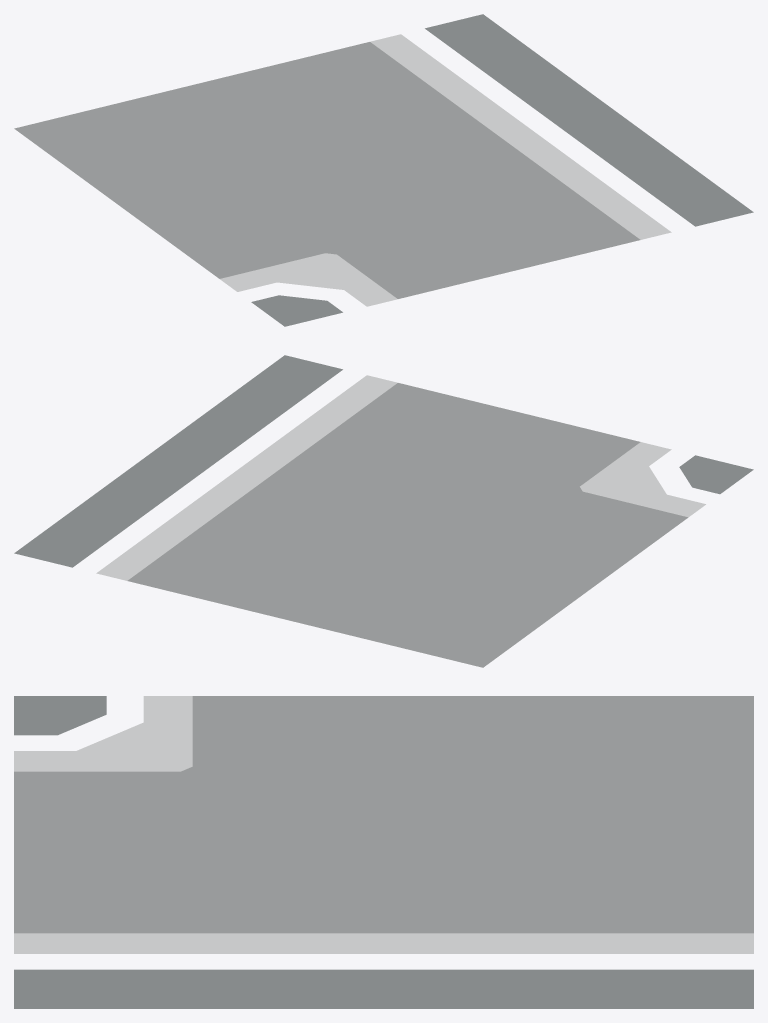
The model's file is Ceiling_type_A_008_002.glb.
The picture shows the model from 3 angles, top to bottom: view 1: azimuth 30°, elevation 25°; view 2: azimuth 150°, elevation 25°; view 3: azimuth 270°, elevation 25°; orthographic projection. The views are drawn at different scales.
Parts seen in each view (by area): view 1: Ceiling_type_A_008.002; view 2: Ceiling_type_A_008.002; view 3: Ceiling_type_A_008.002.
Boxes of the visible parts, x1,y1,x2,y2 form: Ceiling_type_A_008.002: (14,14,753,326); Ceiling_type_A_008.002: (14,355,753,667); Ceiling_type_A_008.002: (14,696,753,1008).
Size of the model in its own units: 4 by 0.0455 by 4.
2 materials, 2 textured.
